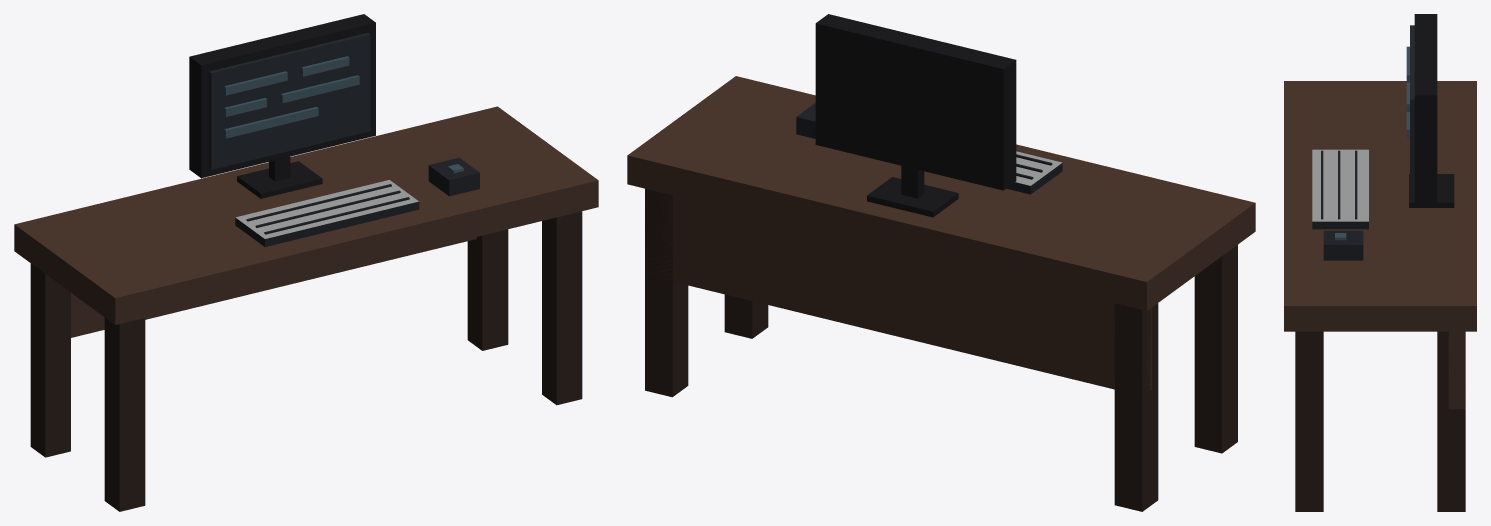
Rendered from desk_basic.fbx.
3 views of the same model, side by side, from view 1: azimuth 30°, elevation 25°; view 2: azimuth 150°, elevation 25°; view 3: azimuth 270°, elevation 25° (orthographic). The views are drawn at different scales.
Visible parts, largest first — view 1: desk_basic; view 2: desk_basic; view 3: desk_basic.
Part boxes in pixels (x1,y1,x2,y2): desk_basic: (14, 14, 598, 511); desk_basic: (627, 14, 1255, 511); desk_basic: (1284, 14, 1476, 511).
Size of the model in its own units: 0.94 by 0.68 by 0.34.
